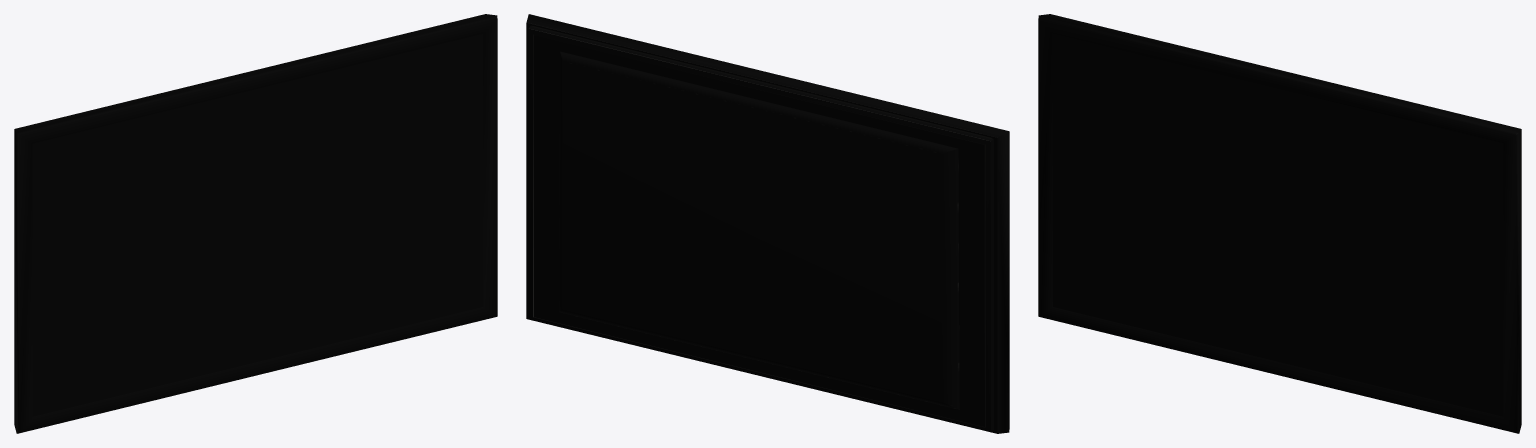
3 views of the same model, side by side, from view 1: azimuth 30°, elevation 25°; view 2: azimuth 150°, elevation 25°; view 3: azimuth 330°, elevation 25° (orthographic).
Parts seen in each view (by area): view 1: node_id126, node_id128; view 2: node_id128; view 3: node_id126, node_id128.
Boxes of the visible parts, x1,y1,x2,y2 form: node_id126: (32,34,482,416); node_id128: (14,14,497,433); node_id128: (526,14,1009,433); node_id126: (1053,34,1503,416); node_id128: (1038,14,1521,433).
Bounding box in the file's own units: 0.512 × 0.3069 × 0.0337.
Materials: 2 (2 with a texture image).
